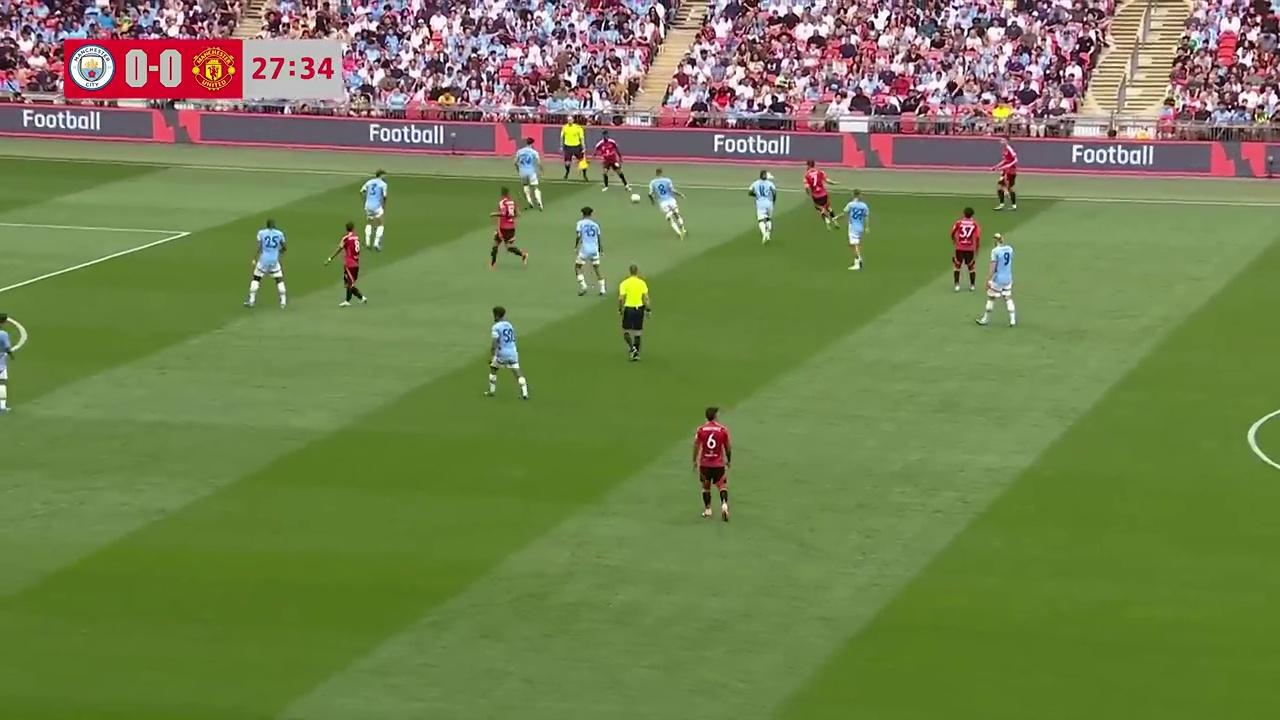ball: (630, 190, 641, 203)
player: (693, 405, 732, 523), (484, 305, 529, 400), (242, 218, 288, 308), (977, 231, 1017, 327), (323, 221, 368, 306), (487, 187, 526, 269), (573, 205, 606, 296), (648, 168, 686, 238), (950, 207, 981, 292), (0, 315, 25, 412), (359, 169, 388, 250), (803, 160, 837, 227), (748, 169, 778, 244), (845, 189, 870, 270), (0, 314, 18, 412), (599, 138, 632, 191), (516, 152, 544, 211), (994, 149, 1018, 210)
referee: (616, 262, 652, 361), (561, 116, 591, 184)
